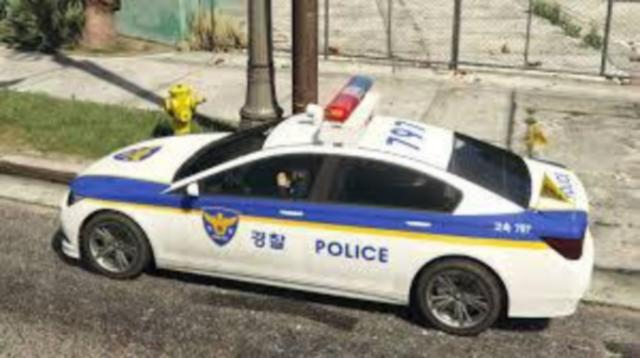police_car: (62, 81, 595, 329)
